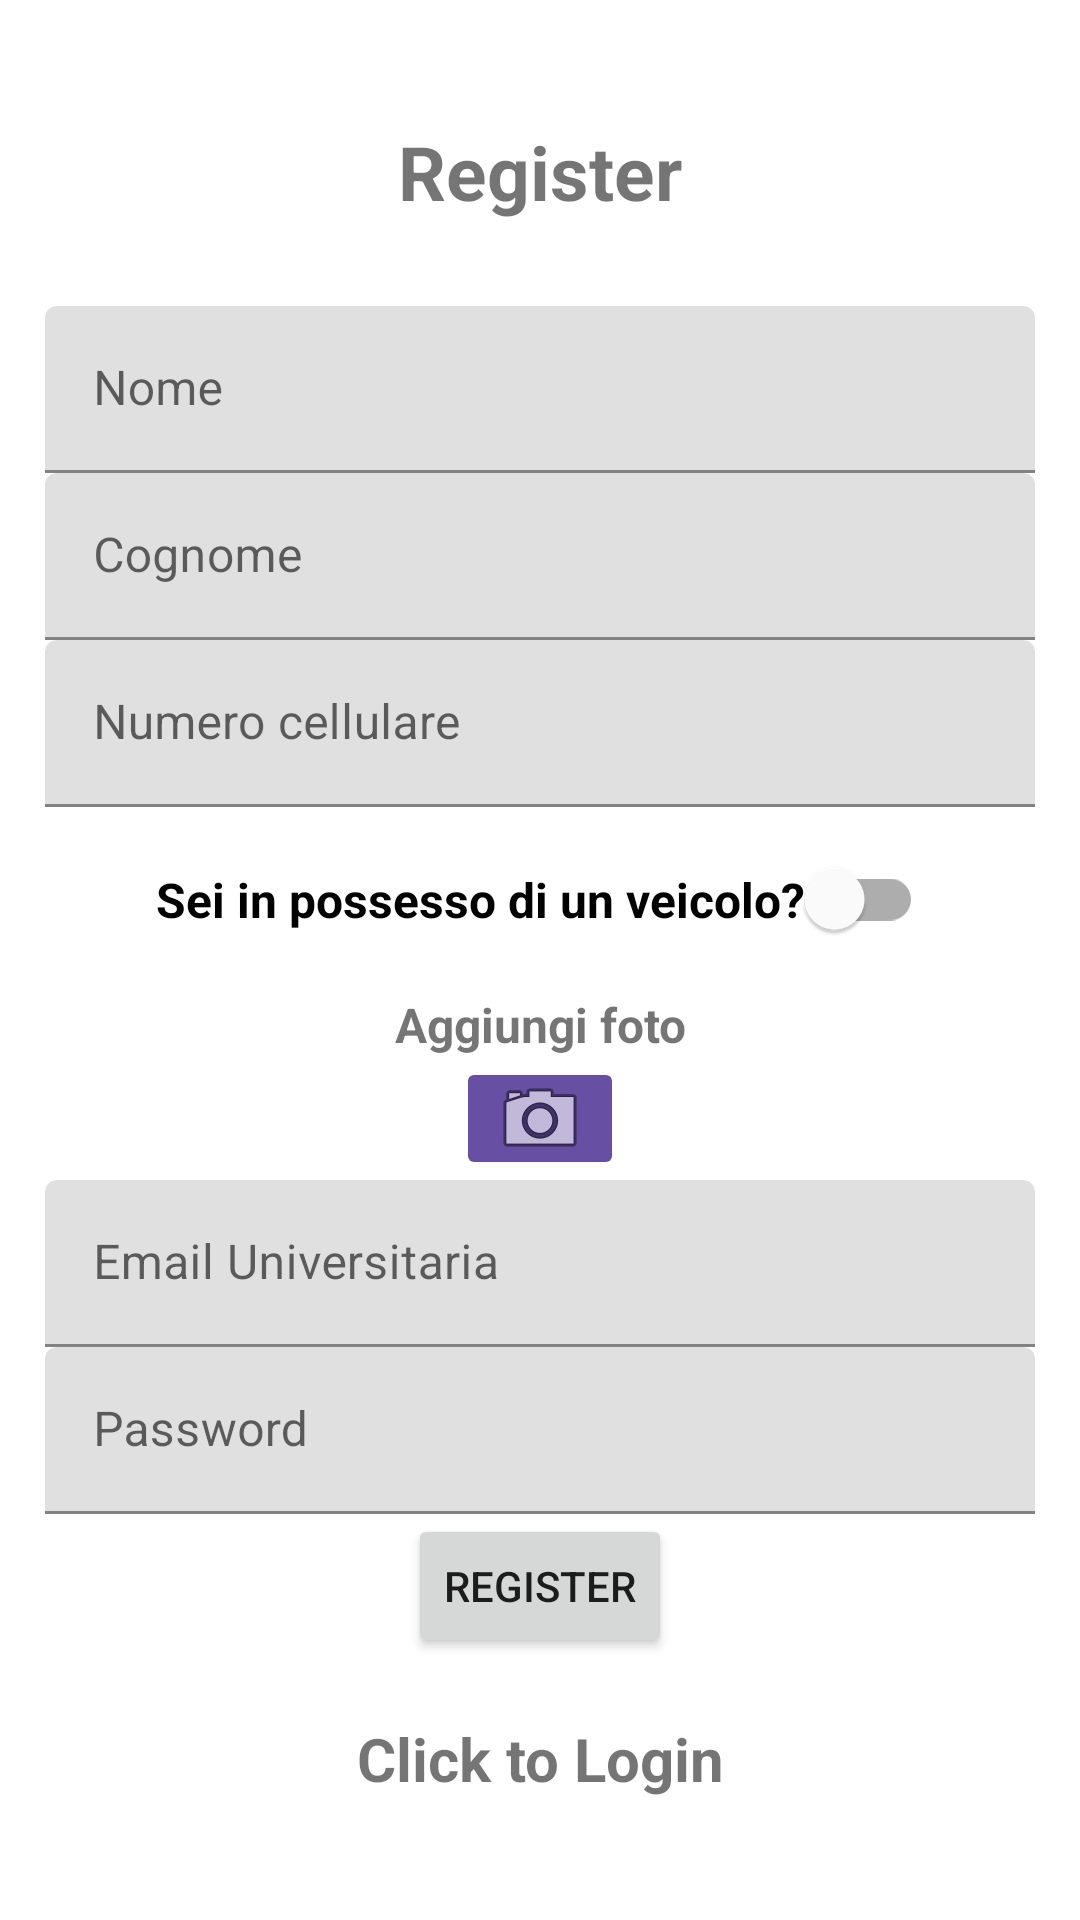

Screen size 1080px×1920px. Icon name, then its center in pixels as point (x, y):
camera: point (540, 1118)
